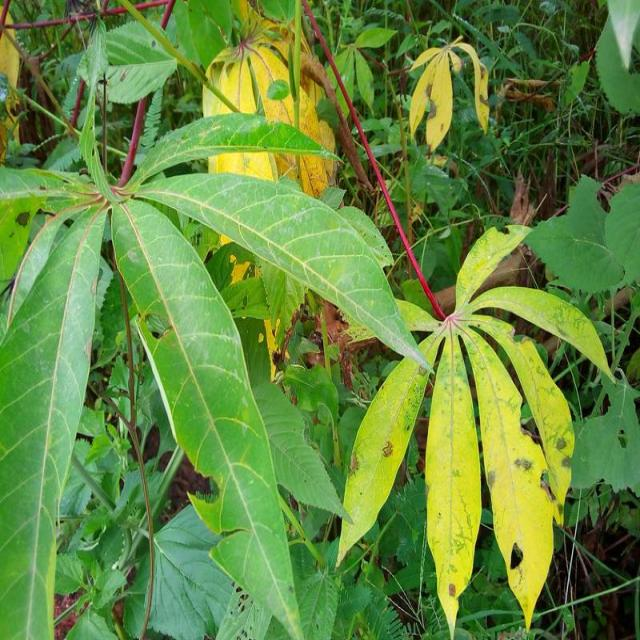cassava leaf: (334, 222, 614, 637), (109, 195, 303, 638), (130, 170, 432, 374), (0, 196, 110, 637)
